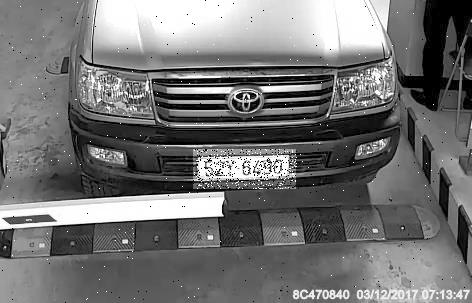License-plate: (195, 150, 299, 190)
